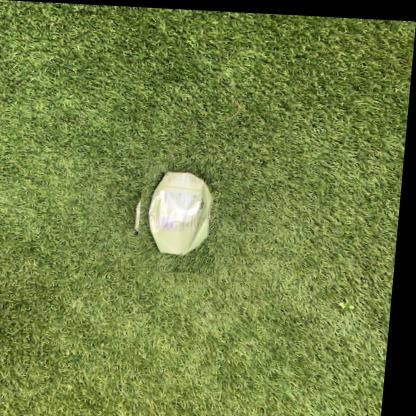trash: (149, 172, 211, 254)
